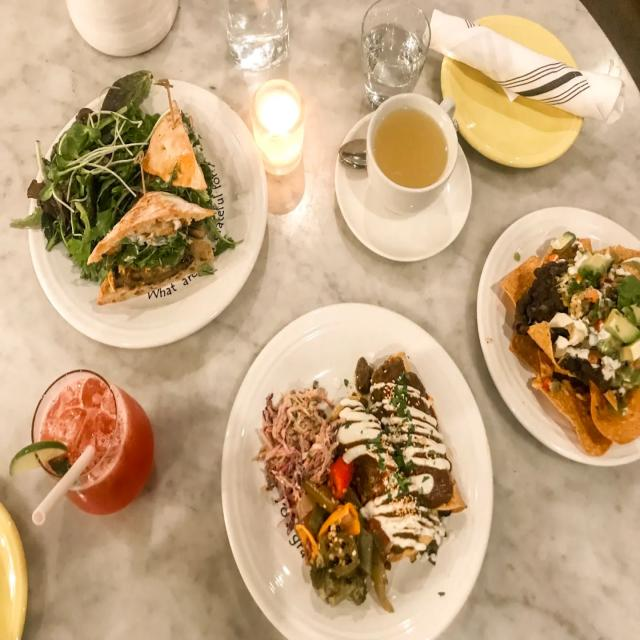nuoc ep ca chua: (25, 364, 171, 527)
sandwich: (42, 80, 272, 328)
tortillas voi guacamole: (486, 216, 640, 463)
tra: (360, 94, 466, 206)
tuy bo nuong: (242, 316, 479, 632)
